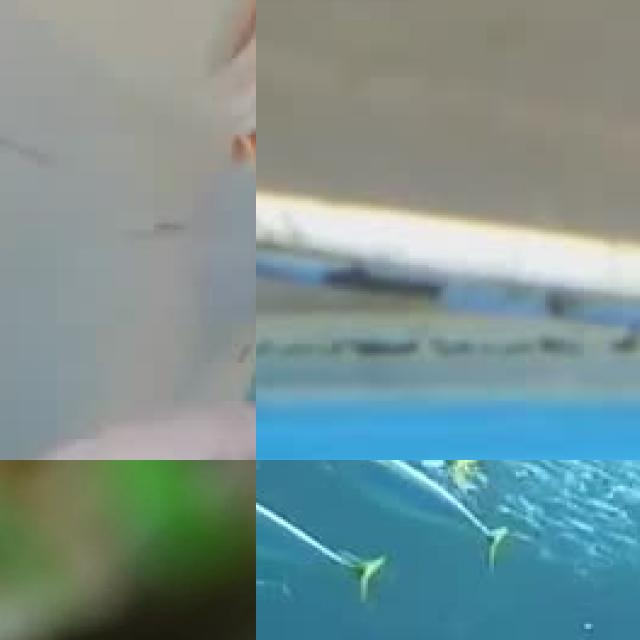fish: (0, 0, 256, 460), (0, 493, 256, 640)
